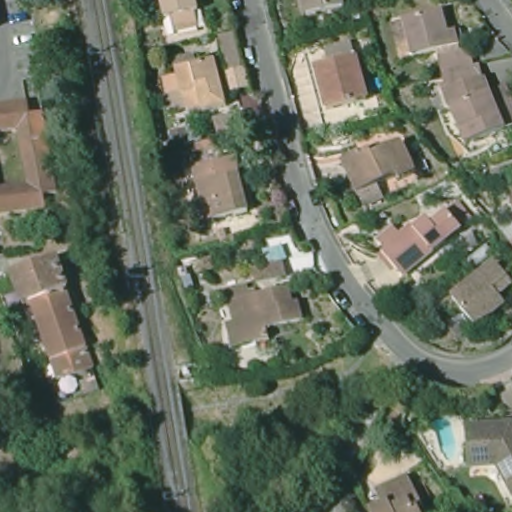pool: (431, 416, 460, 464)
